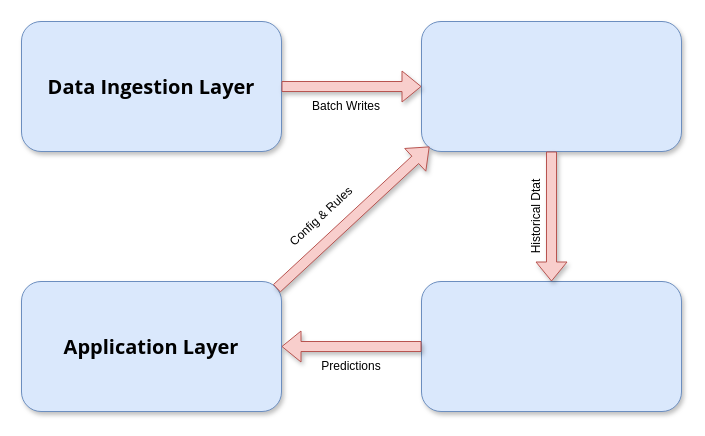
This 705x436 diagram has some shape labels left out. The shapes that lost their labels are listed below. From the top down, each one's centre as x and y in pixels, then its label:
At (x=552, y=87): "Storage Lyer".
At (x=552, y=347): "MLOps Layer".
